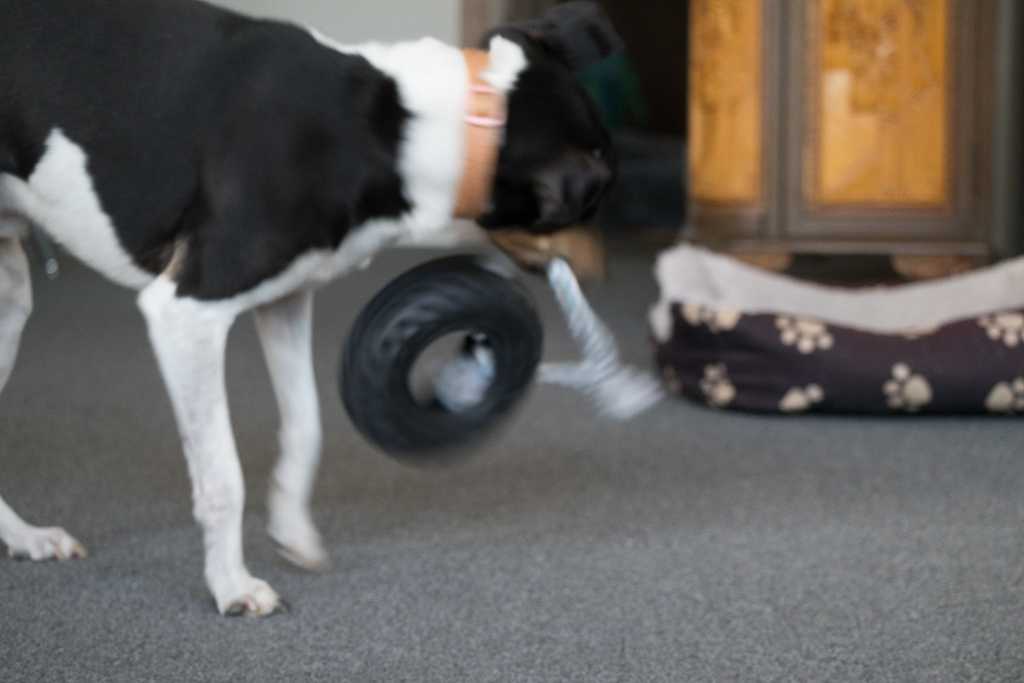Dog: (0, 0, 642, 628)
